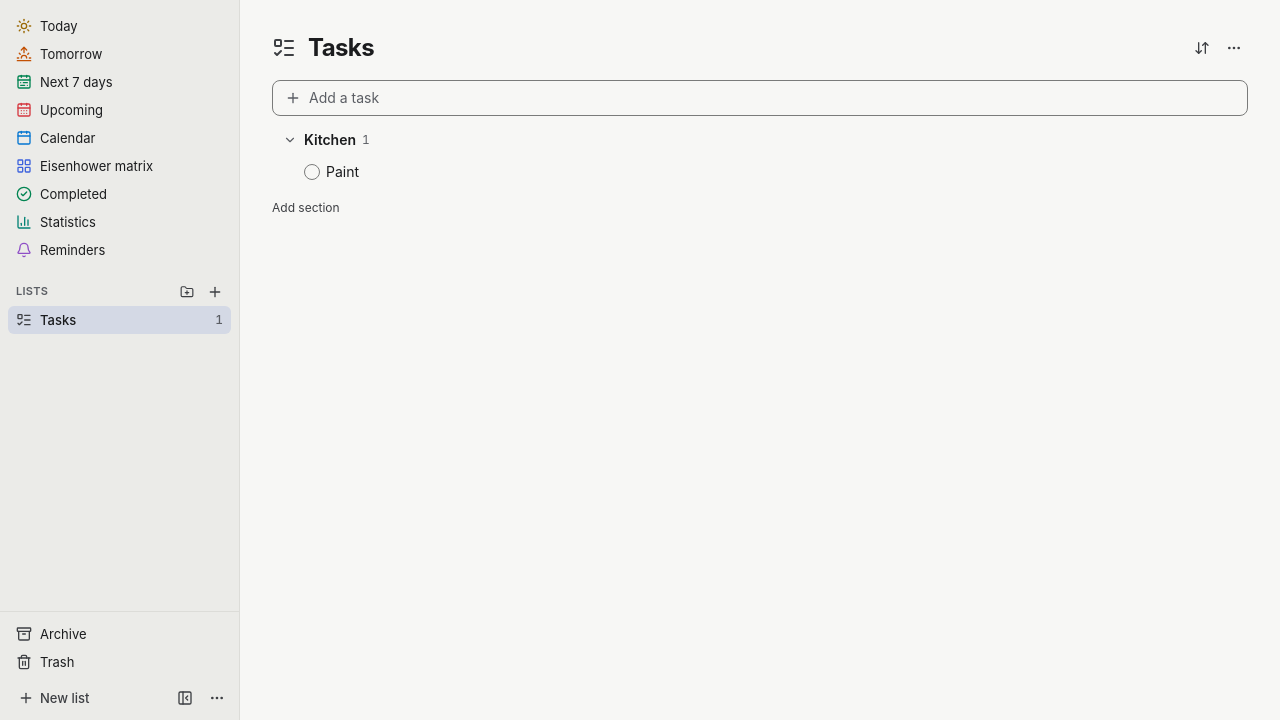
it: TodoList sections › collapses and expands a section, keeping the state on the section
Click the button named "Collapse Kitchen" at (290, 140), box [282,132,298,148]
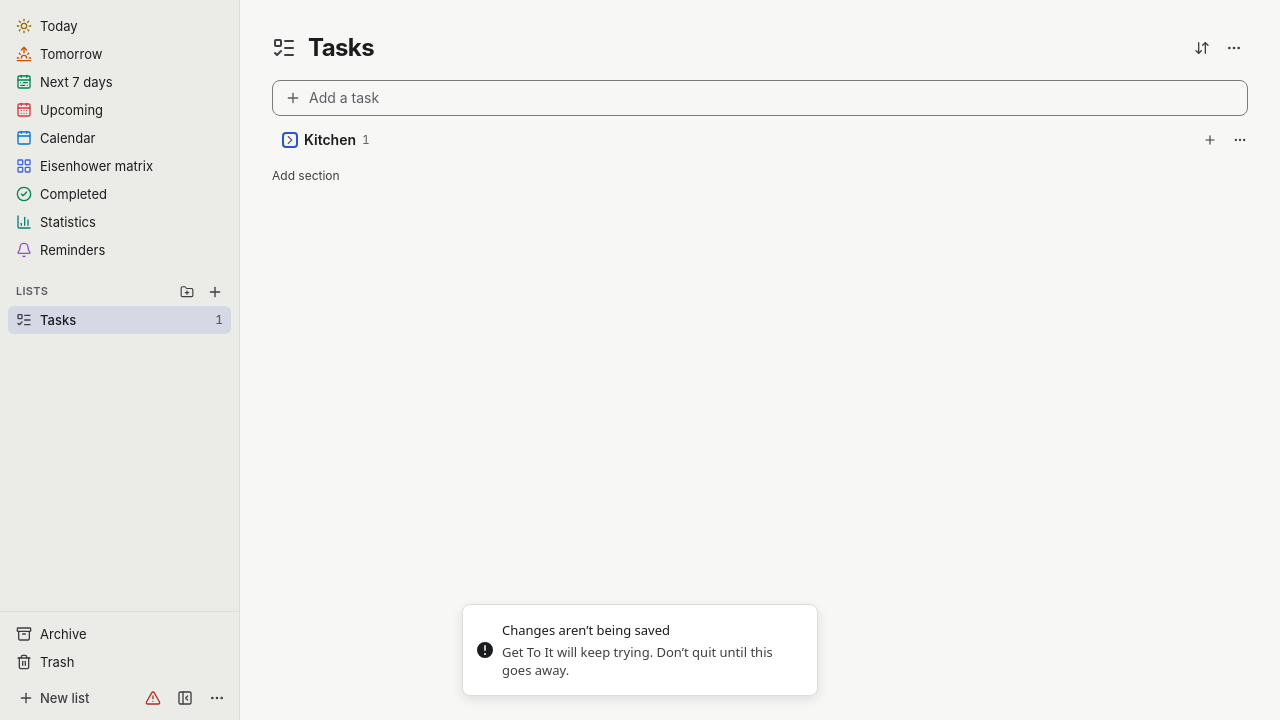
Check: the checkbox labelled "Paint" is gone
Click the button named "Expand Kitchen" at (290, 140), box [282,132,298,148]
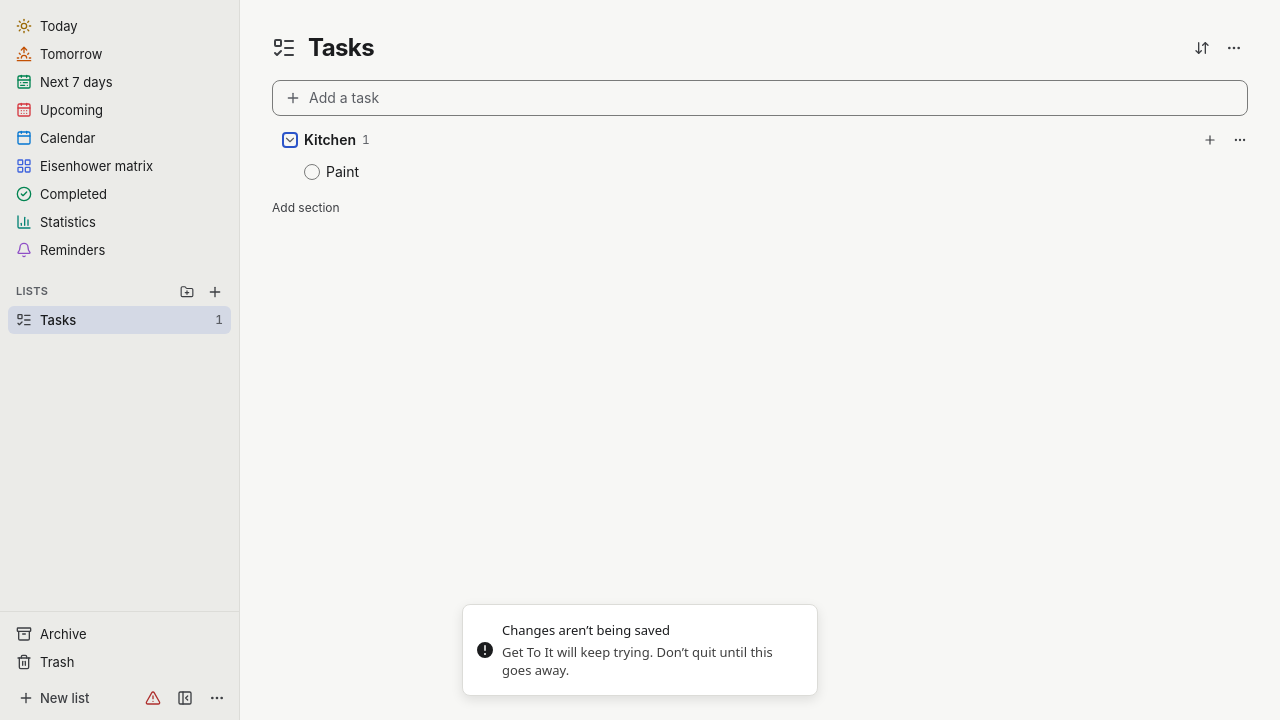
Check: the list item named "Paint" is shown, box [304,160,373,184]
